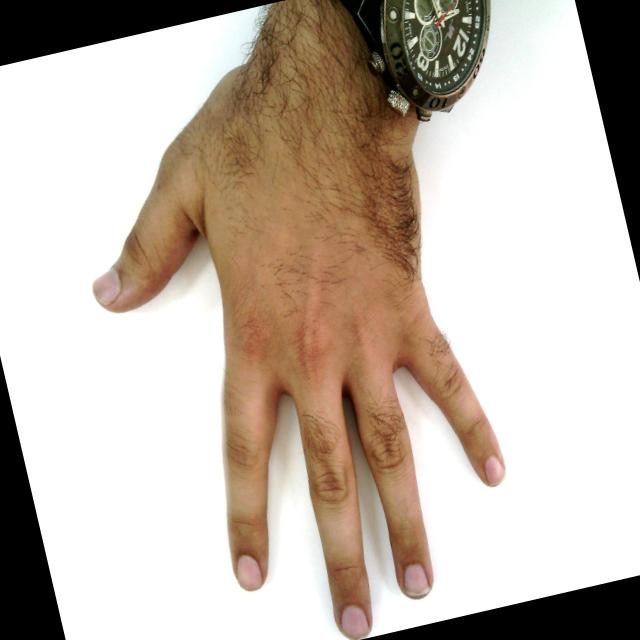Nail: (91, 267, 120, 305), (236, 555, 263, 591), (404, 564, 431, 599), (341, 606, 369, 639), (485, 455, 505, 486)
